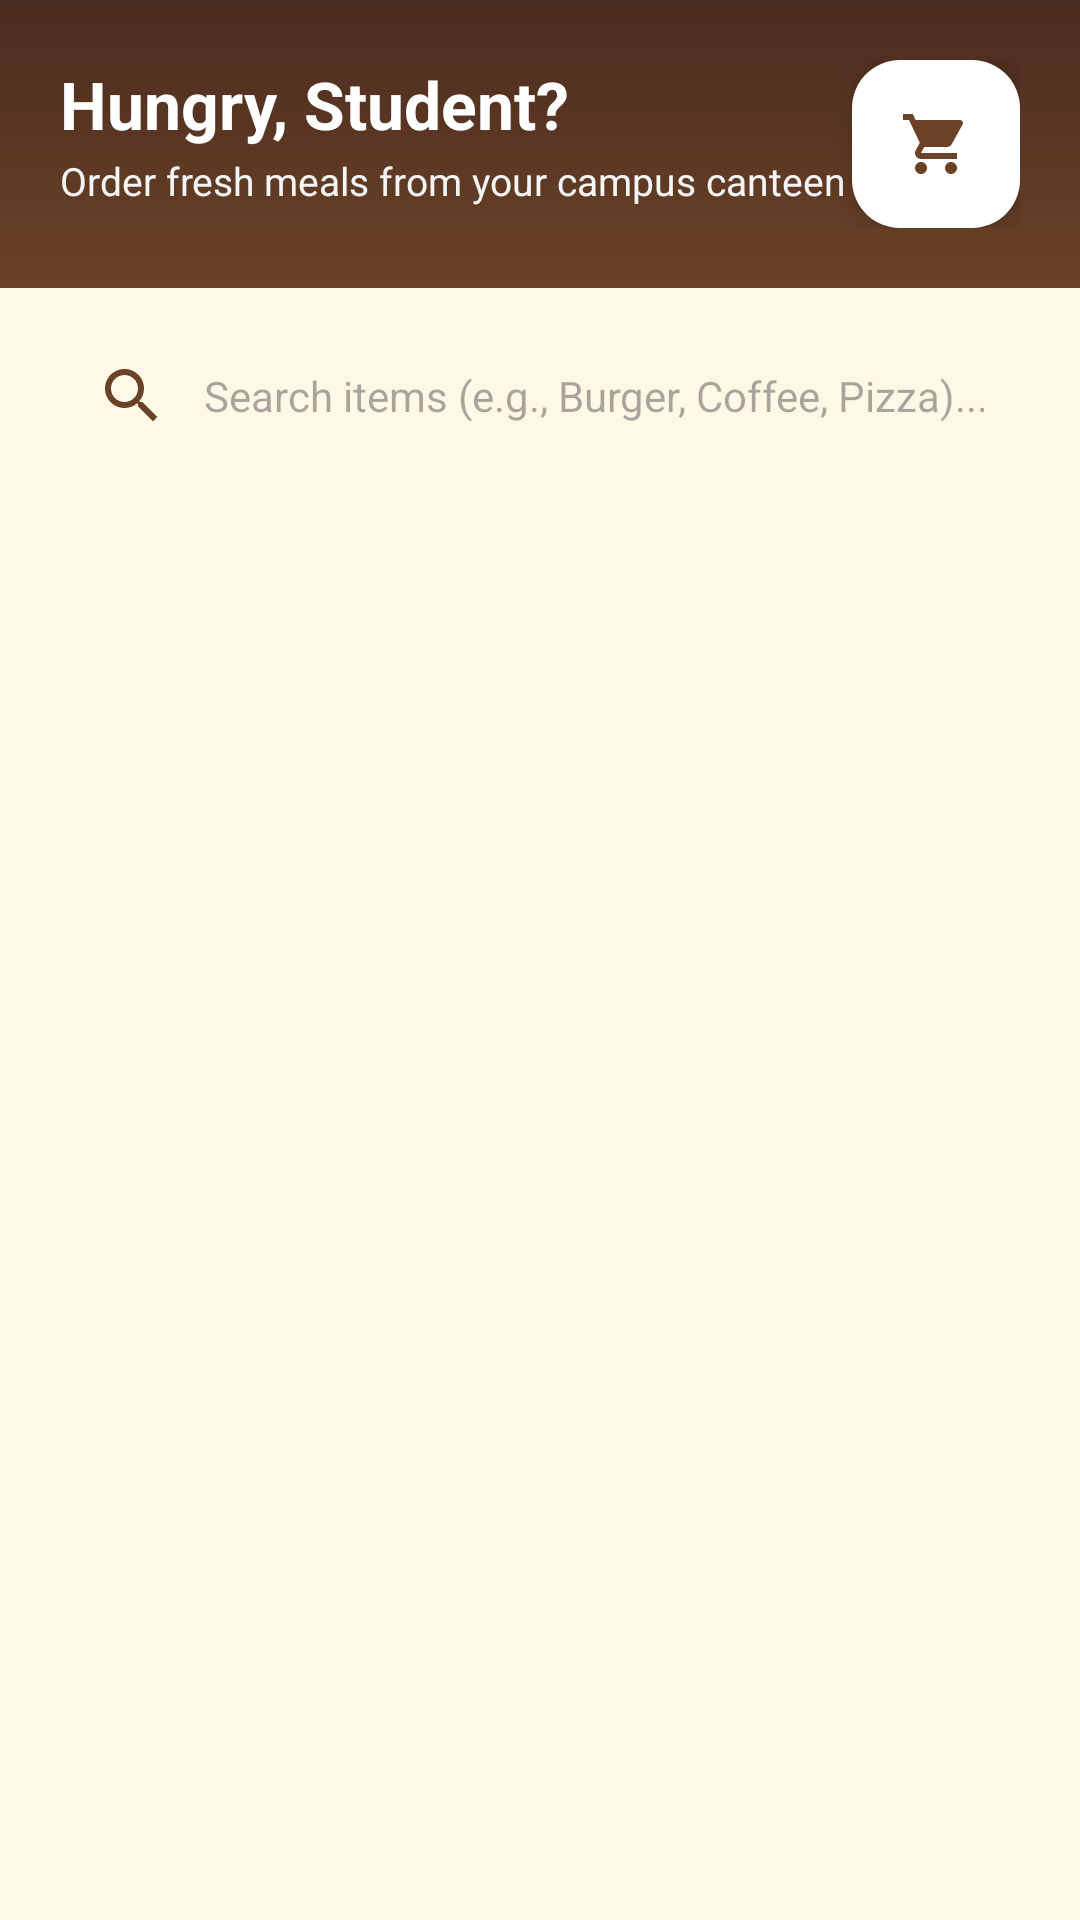

Screen size 1080x1920. Icon name, then its box in pixels as bbox=(x1, y1, x2, y2):
View Cart: bbox=(852, 60, 1020, 228)
